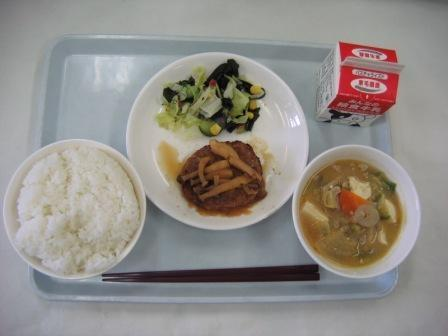Meat: (165, 140, 276, 220)
Milk: (313, 35, 402, 135)
Rice: (5, 145, 147, 280)
Salad: (159, 58, 274, 136)
Soups: (297, 147, 426, 282)
